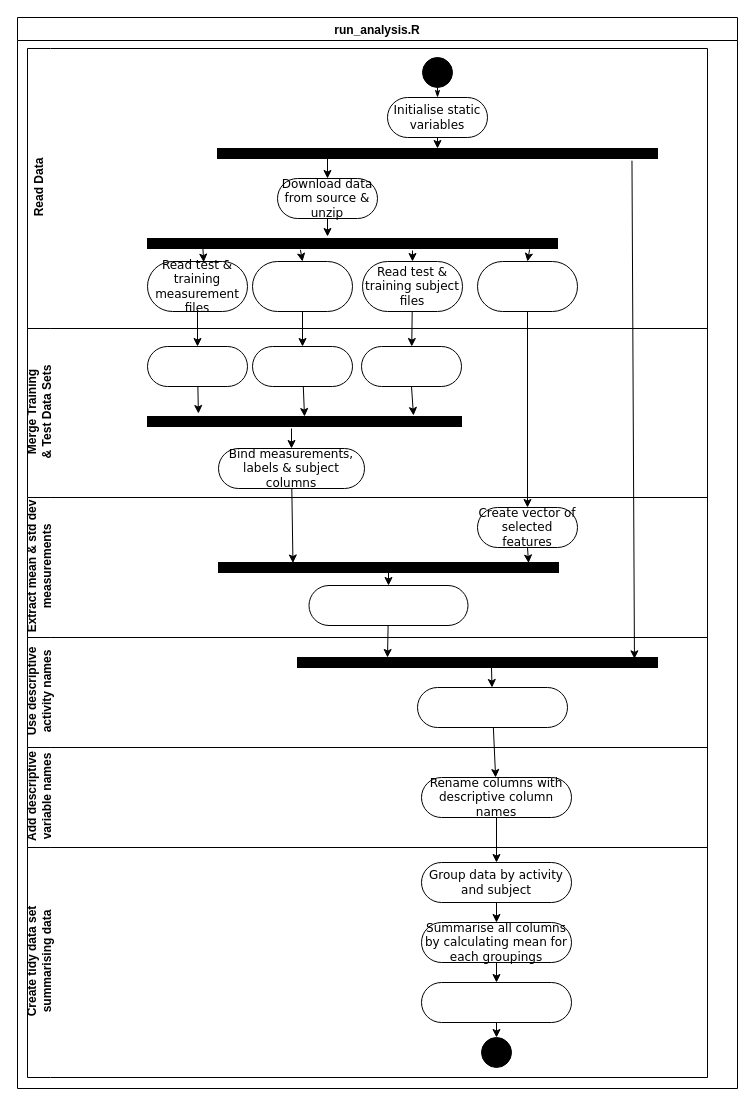
Some shapes in this 755 by 1106 pixel diagram are drawn without their labels. The centre of each missing label's shape, as x and y in pixels:
"Bind test & training label rows" goes at pixel 302 366.
"Bind test & training subject rows" goes at pixel 411 366.
"Bind test and training label rows" goes at pixel 197 366.
"Join activity labels with activity descriptions" goes at pixel 492 707.
"Read feature name file" goes at pixel 527 286.
"Read test & training label files" goes at pixel 302 286.
"Select columns with mean, std, labelid and activity in their name" goes at pixel 388 605.
"Write tidy output data to a run_analysis_output.csv" goes at pixel 496 1002.
